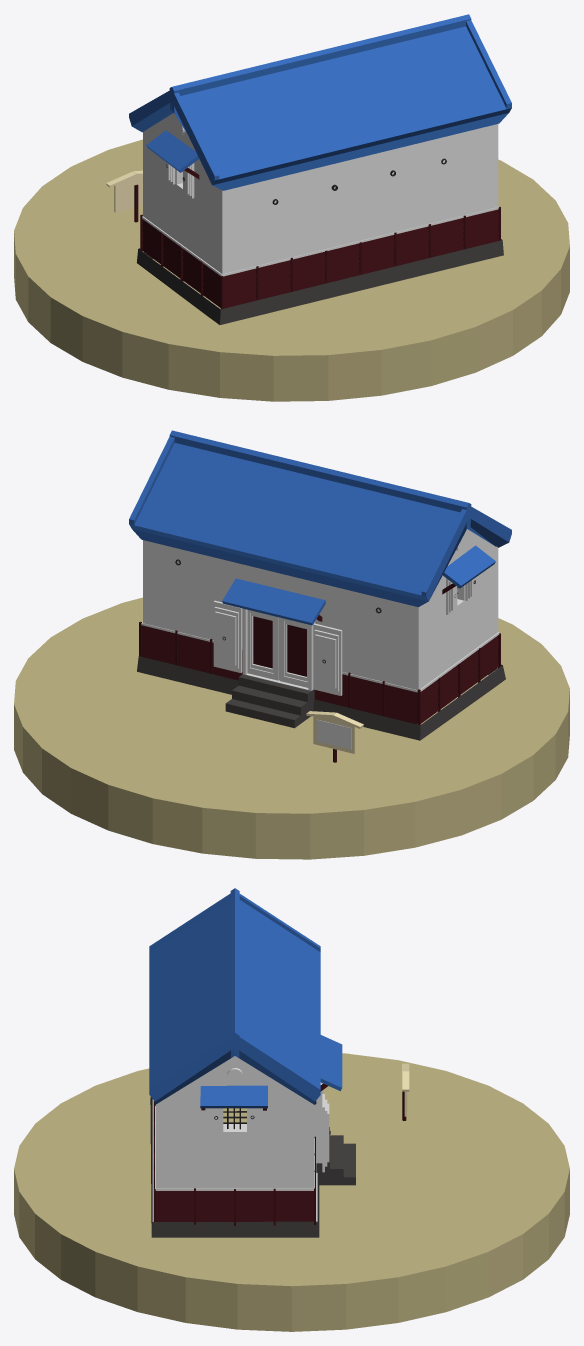
The model's file is kura_color.glb.
3 renders of one model, top to bottom at view 1: azimuth 30°, elevation 25°; view 2: azimuth 150°, elevation 25°; view 3: azimuth 270°, elevation 25°, orthographic.
Visible parts, largest first — view 1: base, roof, wall.001, wall, ishigaki, window.001, kanban; view 2: base, roof, wall.001, wall, entrance, ishigaki, stairs, Cube.003, door.001, door.003, window.001, kanban (+1 smaller); view 3: base, roof, wall.001, wall, ishigaki, window, stairs, Cube.003, door.003, entrance.
Part boxes in pixels (x1,y1,x2,y2): base: (14, 139, 569, 401); roof: (129, 14, 511, 190); wall.001: (142, 113, 498, 308); wall: (140, 206, 500, 309); ishigaki: (136, 239, 503, 324); window.001: (146, 130, 199, 198); kanban: (106, 170, 142, 222); base: (14, 597, 569, 859); roof: (129, 430, 511, 607); wall.001: (141, 529, 499, 702); wall: (139, 621, 500, 724); entrance: (242, 608, 315, 690); ishigaki: (137, 655, 505, 740); stairs: (225, 674, 314, 728); Cube.003: (222, 578, 325, 625); door.001: (313, 623, 342, 695); door.003: (213, 600, 242, 672); window.001: (442, 545, 495, 614); kanban: (306, 711, 363, 762); base: (14, 1053, 569, 1331); roof: (149, 888, 320, 1104); wall.001: (152, 1056, 317, 1221); wall: (153, 1100, 315, 1225); ishigaki: (150, 1097, 319, 1237); window: (200, 1085, 267, 1133); stairs: (316, 1127, 355, 1185); Cube.003: (320, 1035, 342, 1091); door.003: (322, 1094, 330, 1172); entrance: (314, 1082, 322, 1163).
Size of the model in its own units: 14 by 7.06 by 14.
